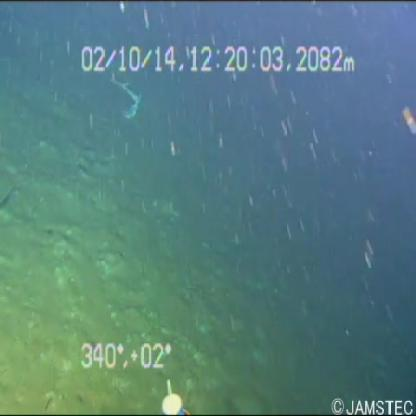Rov: (153, 367, 191, 416)
Rác: (112, 59, 152, 132)
